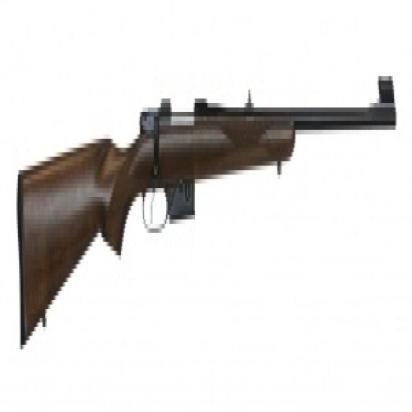Gun: (13, 54, 400, 381)
